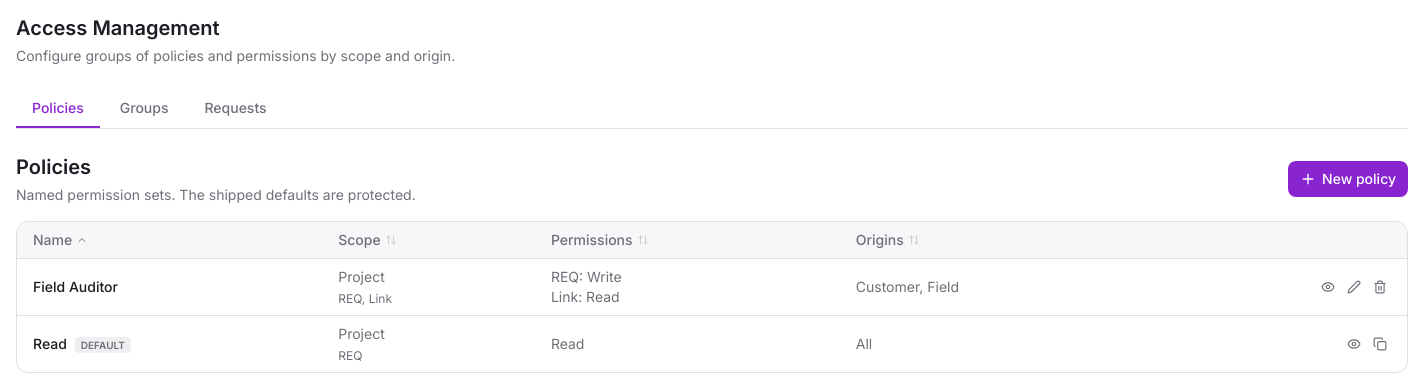
Test: Groups and policies administration › switches between Policies and Groups below the Access Management description
Expected: the heading "Access Management" is shown, 16,16 -> 220,40
Expected: the text "Configure groups of policies and permissions by scope and origin." is shown, 16,47 -> 455,64
Click the tab "Groups": (144, 109) 104,90 -> 184,128
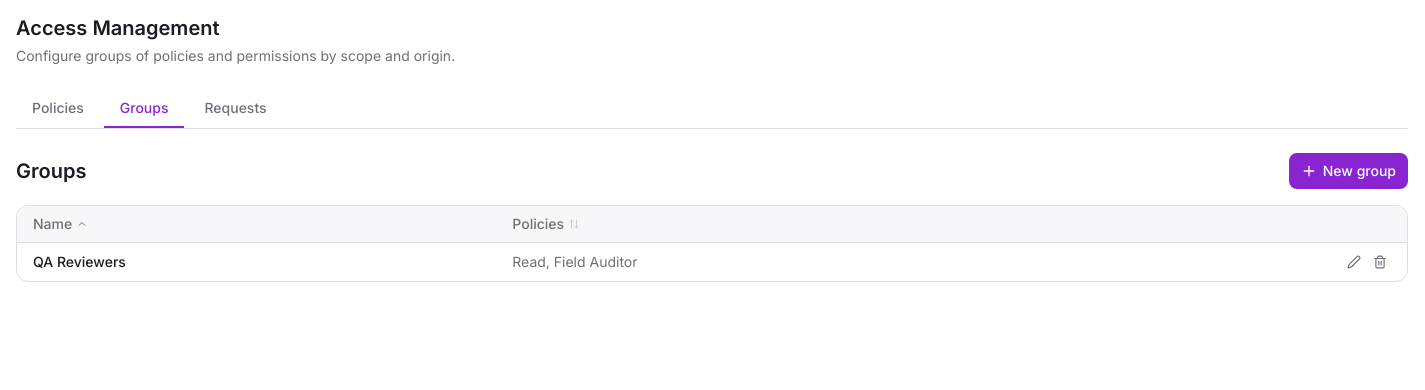
Now the panel "Groups" is shown, box 16,153 -> 1408,282
Now the text "QA Reviewers" is shown, box 17,242 -> 496,281
Click the tab "Policies": (58, 109) 16,90 -> 100,128
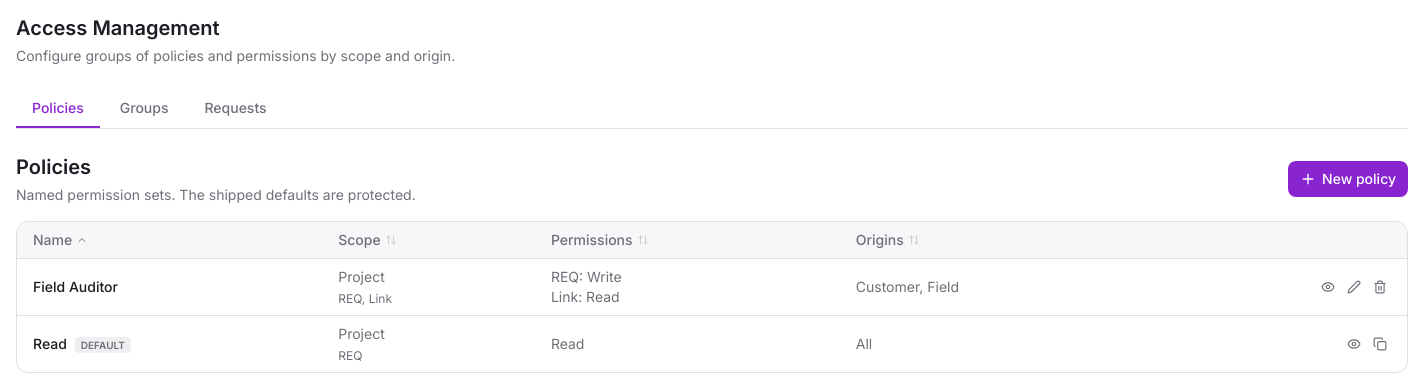
Now the panel "Policies" is shown, box 16,153 -> 1408,373
